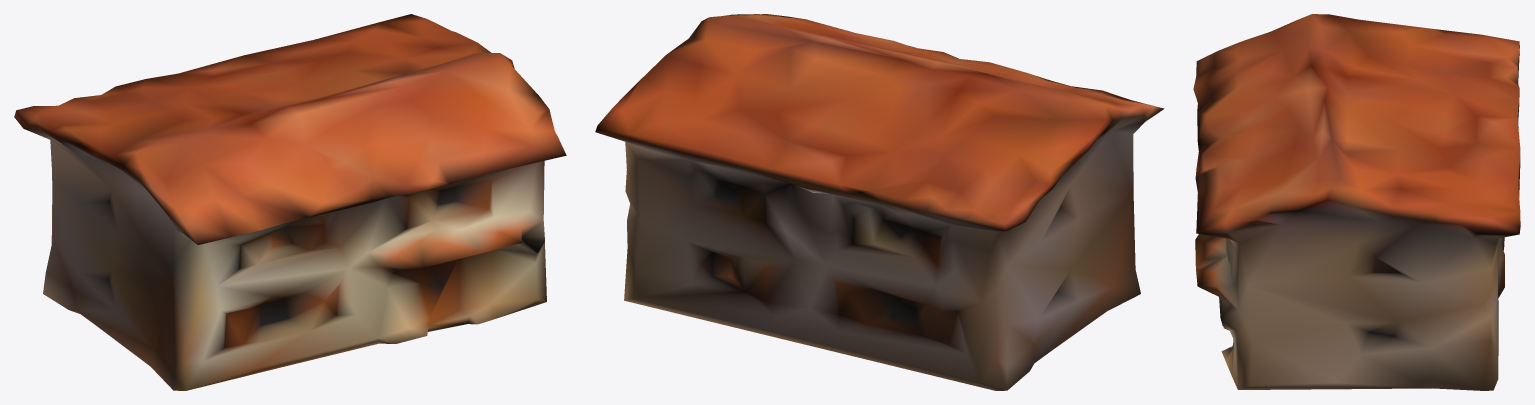
The model's file is villageLonghouse.glb.
3 views of the same model, side by side, from view 1: azimuth 30°, elevation 25°; view 2: azimuth 150°, elevation 25°; view 3: azimuth 270°, elevation 25° (orthographic). The views are drawn at different scales.
Visible parts, largest first — view 1: VillageHouseMesh.001; view 2: VillageHouseMesh.001; view 3: VillageHouseMesh.001.
Part boxes in pixels (<box>): VillageHouseMesh.001: <box>14,14,566,390</box>; VillageHouseMesh.001: <box>595,14,1164,390</box>; VillageHouseMesh.001: <box>1193,14,1520,390</box>.
Bounding box in the file's own units: 6.8 × 3.5 × 4.96.
